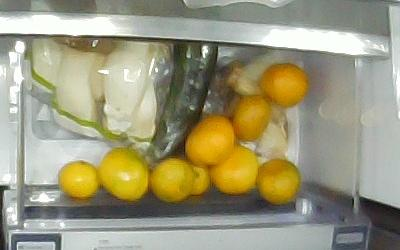tangerine: (96, 145, 149, 201), (183, 113, 234, 165), (208, 143, 259, 194), (256, 61, 309, 107), (225, 93, 271, 141), (255, 157, 300, 204), (148, 155, 193, 202), (56, 158, 100, 198), (188, 163, 210, 195)
